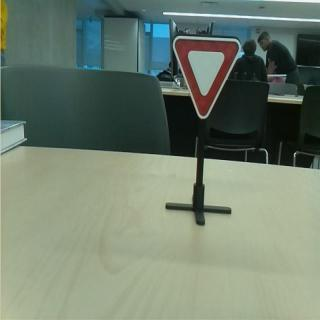sign_yield: (172, 35, 244, 121)
